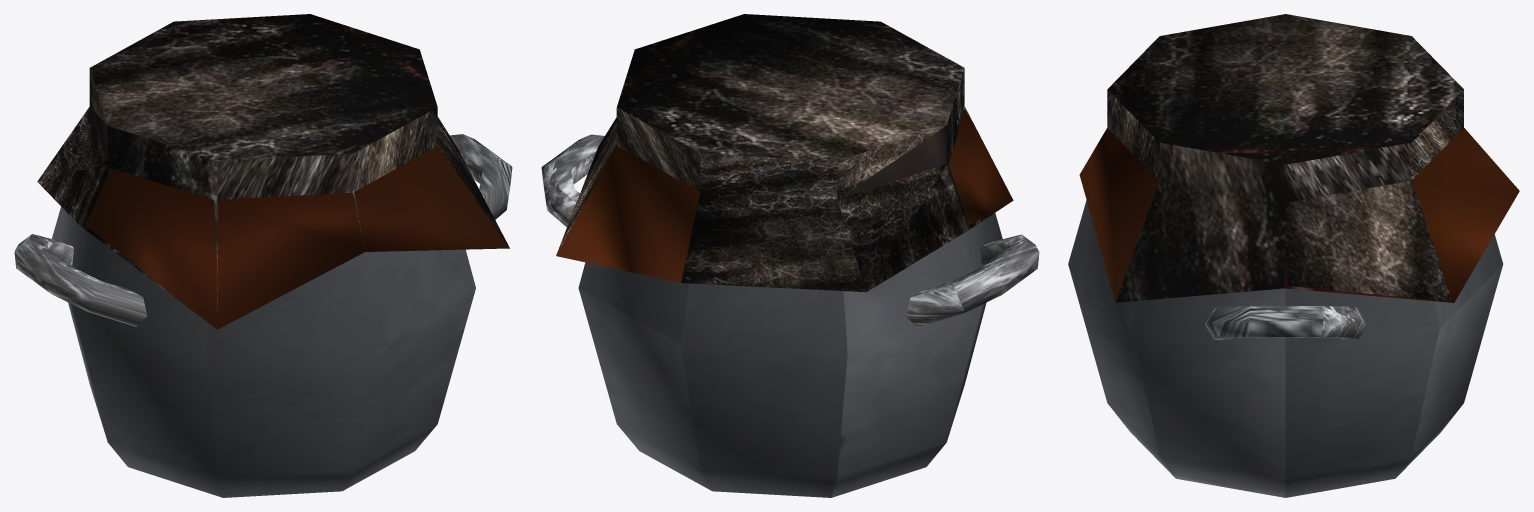
The model's file is ITMI_MOLERATLUBRIC.glb.
The picture shows the model from 3 angles, left to right: view 1: azimuth 30°, elevation 25°; view 2: azimuth 150°, elevation 25°; view 3: azimuth 270°, elevation 25°; orthographic projection.
Visible parts, largest first — view 1: Mesh; view 2: Mesh; view 3: Mesh.
Boxes of the visible parts, x1,y1,x2,y2 form: Mesh: (14,14,512,497); Mesh: (541,14,1039,497); Mesh: (1068,14,1519,497).
Bounding box in the file's own units: 0.3306 × 0.2377 × 0.2838.
Materials: 3 (2 with a texture image).
